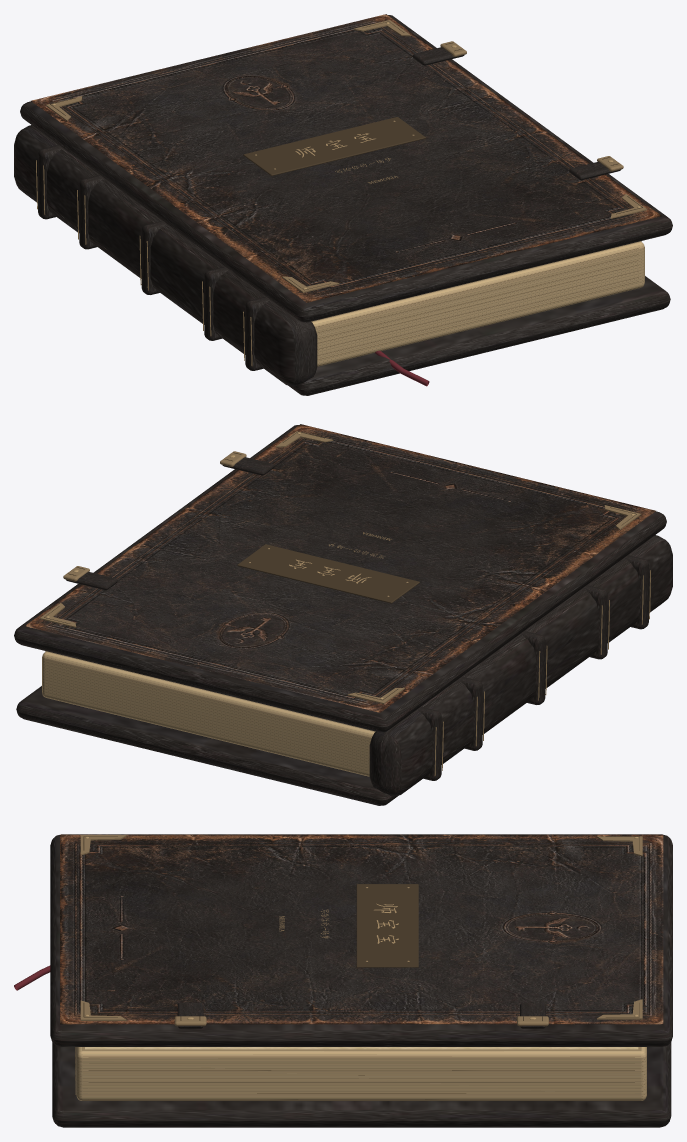
The model's file is magic-book.glb.
3 views of the same model, one above another, from view 1: azimuth 30°, elevation 25°; view 2: azimuth 150°, elevation 25°; view 3: azimuth 270°, elevation 25° (orthographic). The views are drawn at different scales.
Visible parts, largest first — view 1: Calfskin_cover_PBR, Back_cover, Front_cover_board, Bound_page_block, Corner_incised_rule, Uneven_folio_foreedge, Hammered_copper_corner, Worn_spine_rule; view 2: Calfskin_cover_PBR, Back_cover, Front_cover_board, Bound_page_block, Corner_incised_rule, Hammered_copper_corner, Worn_spine_rule; view 3: Calfskin_cover_PBR, Bound_page_block, Back_cover, Front_cover_board, Corner_incised_rule, Uneven_folio_foreedge, Hammered_copper_corner, Dedication_rag_paper.
Boxes of the visible parts, x1,y1,x2,y2 form: Calfskin_cover_PBR: (31,14,661,302); Back_cover: (14,125,670,395); Front_cover_board: (20,15,672,322); Bound_page_block: (311,241,644,366); Corner_incised_rule: (50,21,642,290); Uneven_folio_foreedge: (315,241,641,365); Hammered_copper_corner: (46,20,646,292); Worn_spine_rule: (36,160,252,365); Calfskin_cover_PBR: (25,424,655,712); Back_cover: (16,535,672,805); Front_cover_board: (14,425,666,732); Bound_page_block: (42,651,375,776); Corner_incised_rule: (44,431,636,700); Hammered_copper_corner: (40,431,640,703); Worn_spine_rule: (434,570,650,775); Calfskin_cover_PBR: (60,834,663,1024); Bound_page_block: (76,1047,646,1100); Back_cover: (52,1042,671,1127); Front_cover_board: (50,834,672,1046); Corner_incised_rule: (83,836,639,1020); Uneven_folio_foreedge: (75,1047,634,1099); Hammered_copper_corner: (80,835,642,1026); Dedication_rag_paper: (85,1047,638,1049).
Bounding box in the file's own units: 2.89 × 0.723 × 3.81.
26 materials, 18 textured.
